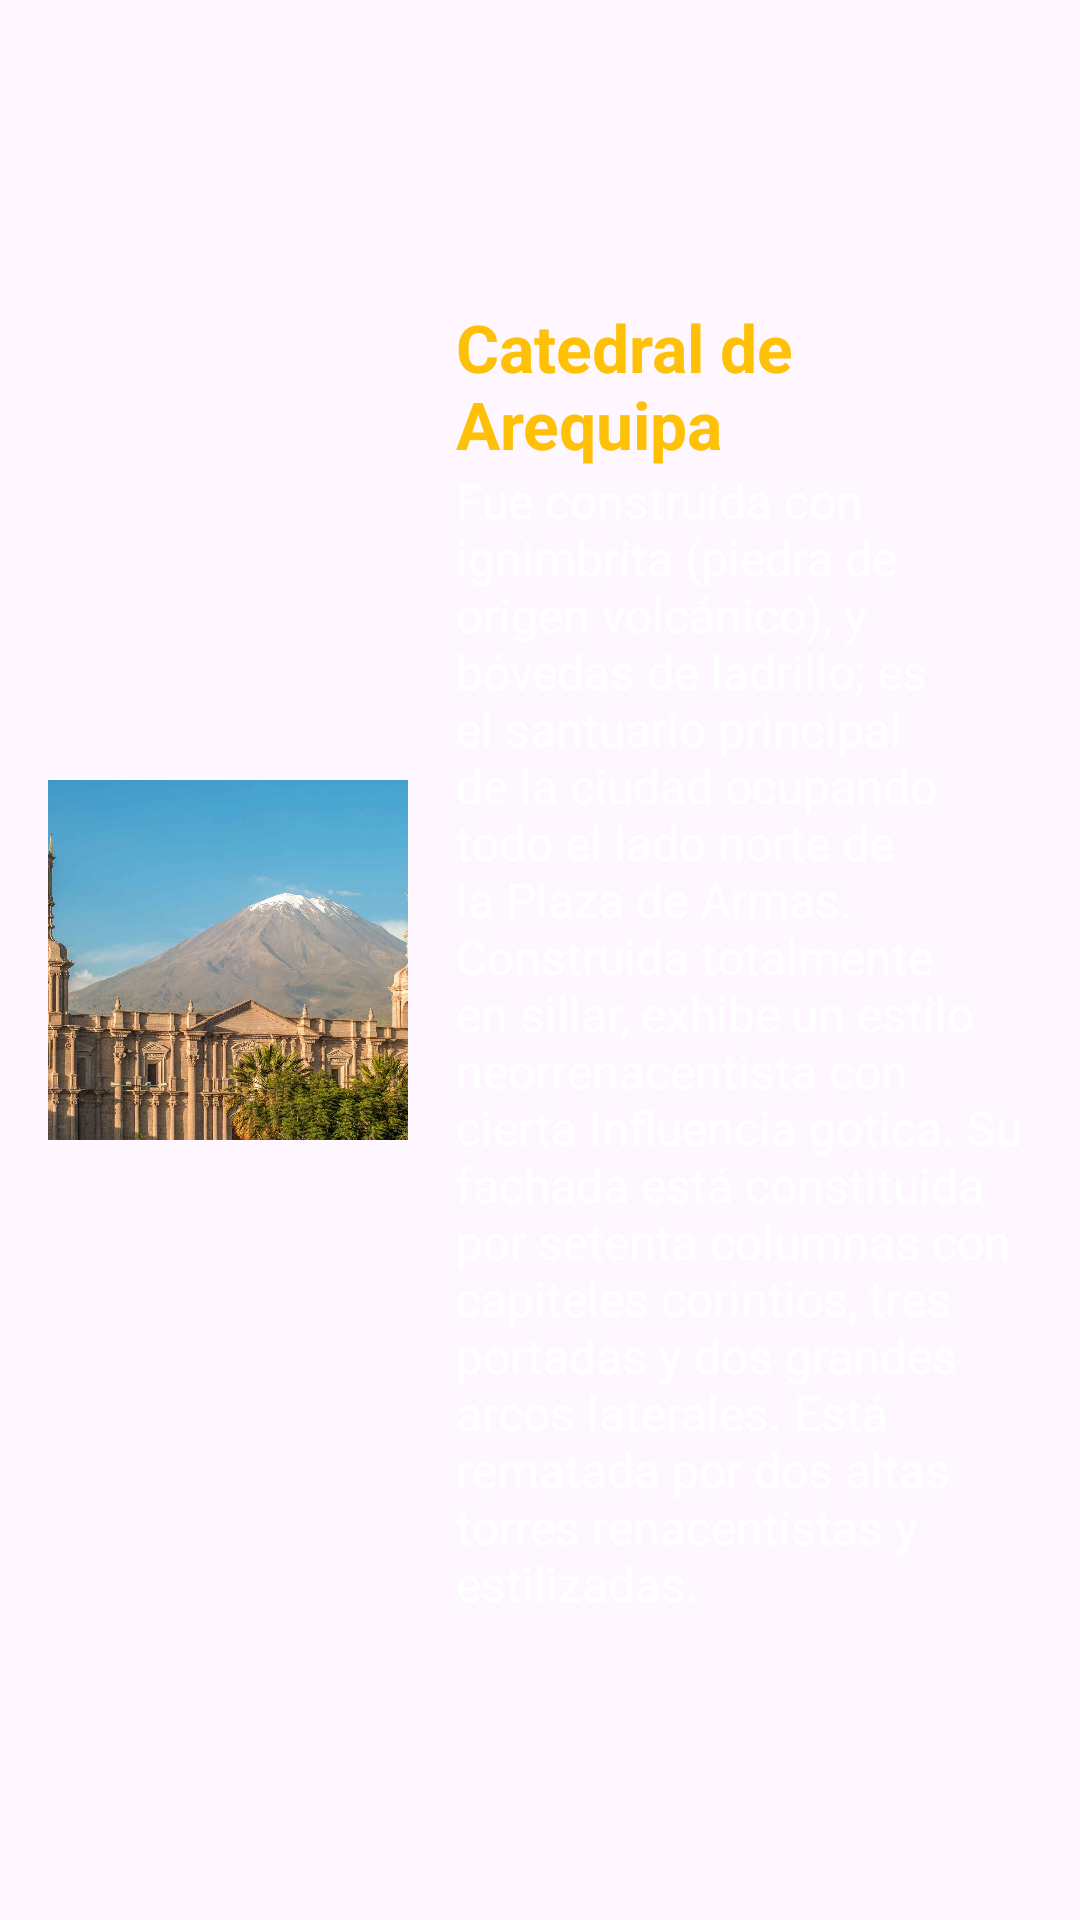

Named icons in this screenshot (1080*1920) and their bounding boxes, box=[x1, y1, x2, y2]:
cathedral: box=[48, 780, 408, 1140]
